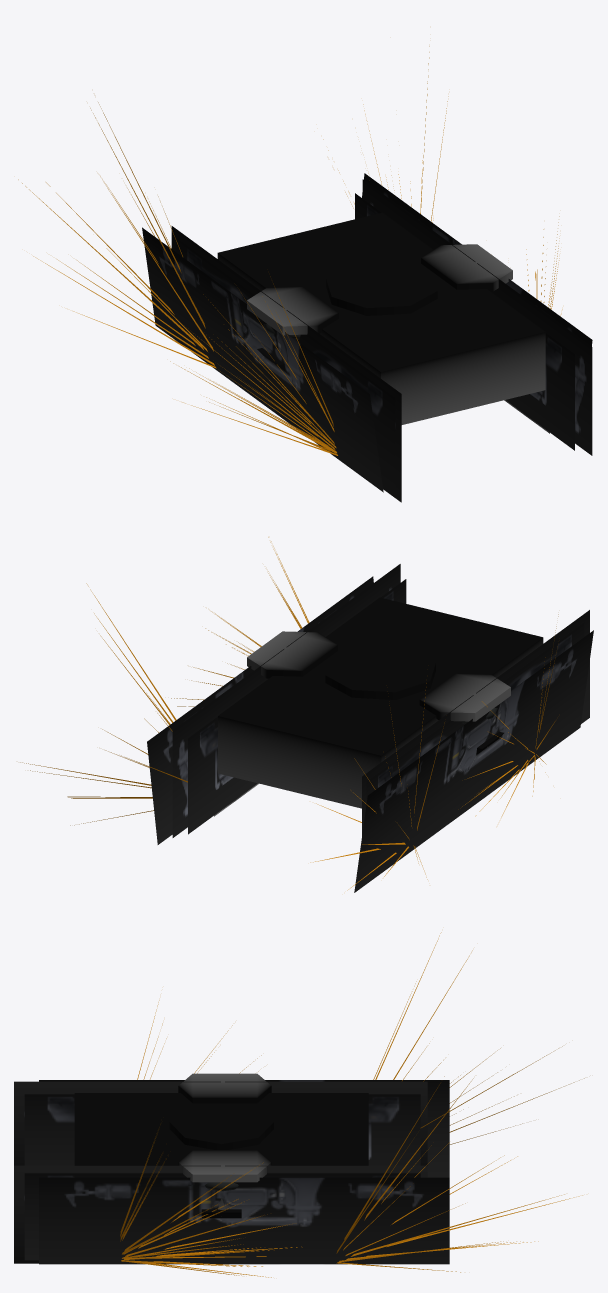
The model's file is JR2000_TRACK_LOW2.glb.
3 renders of one model, top to bottom at view 1: azimuth 30°, elevation 25°; view 2: azimuth 150°, elevation 25°; view 3: azimuth 270°, elevation 25°, orthographic. The views are drawn at different scales.
Visible parts, largest first — view 1: trackbase, HURIKO_BANK, Fire0_R_0, Fire1_R_1; view 2: trackbase, HURIKO_BANK, Fire1_L_0, Fire1_R_1, Fire0_R_0; view 3: trackbase, HURIKO_BANK, Fire0_L_0, Fire1_L_1, Fire0_L_1, Fire1_R_0.
Part boxes in pixels (box(x1,y1,x2,y2)): trackbase: box(142, 173, 592, 502); HURIKO_BANK: box(247, 244, 512, 339); Fire0_R_0: box(170, 276, 337, 455); Fire1_R_1: box(18, 106, 216, 368); trackbase: box(147, 564, 593, 892); HURIKO_BANK: box(247, 631, 510, 723); Fire1_L_0: box(20, 595, 187, 823); Fire1_R_1: box(313, 683, 426, 890); Fire0_R_0: box(462, 701, 546, 816); trackbase: box(14, 1080, 449, 1264); HURIKO_BANK: box(178, 1073, 271, 1191); Fire0_L_0: box(120, 1130, 302, 1277); Fire1_L_1: box(336, 1083, 579, 1272); Fire0_L_1: box(120, 1129, 301, 1277); Fire1_R_0: box(373, 941, 556, 1144).
Bounding box in the file's own units: 10.41 × 6.14 × 14.48.
17 materials, 8 textured.
